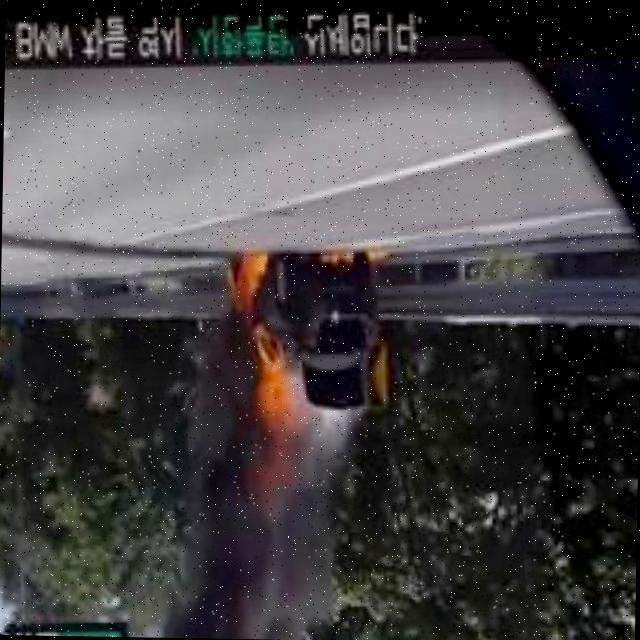fire: (228, 250, 275, 310), (251, 350, 295, 410)
